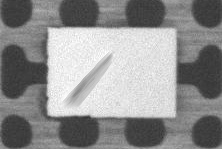DIE_INK: (85, 32, 171, 74)
